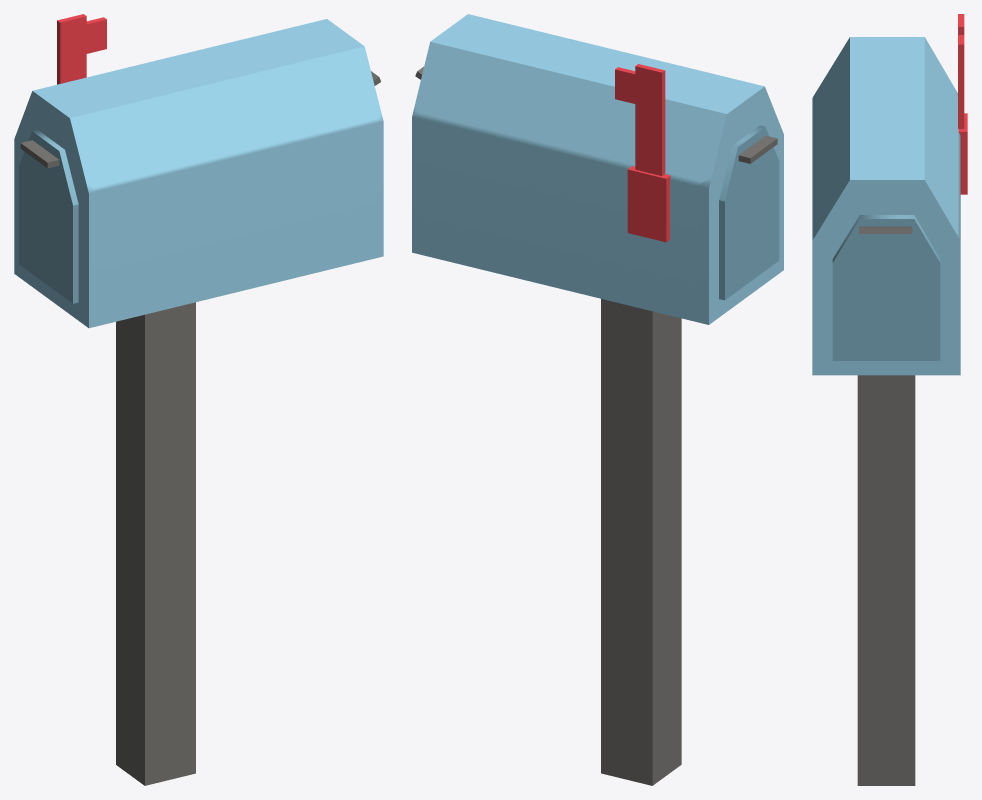
The model's file is mailbox.glb.
The picture shows the model from 3 angles, left to right: view 1: azimuth 30°, elevation 25°; view 2: azimuth 150°, elevation 25°; view 3: azimuth 270°, elevation 25°; orthographic projection.
Parts seen in each view (by area): view 1: boxBase, boxPole, backdoor, boxFlag; view 2: boxBase, boxPole, backdoor, boxFlag; view 3: boxBase, boxPole, frontDoor, boxFlag, frontdoorHandle.
Part boxes in pixels (<box>): boxBase: <box>14,19,383,328</box>; boxPole: <box>116,302,195,785</box>; backdoor: <box>19,129,78,303</box>; boxFlag: <box>57,14,106,84</box>; boxBase: <box>412,14,783,324</box>; boxPole: <box>601,299,681,785</box>; backdoor: <box>719,125,779,300</box>; boxFlag: <box>615,64,670,242</box>; boxBase: <box>812,37,960,375</box>; boxPole: <box>857,375,915,785</box>; frontDoor: <box>832,215,940,360</box>; boxFlag: <box>958,14,967,194</box>; frontdoorHandle: <box>859,226,912,233</box>.
Size of the model in its own units: 4.71 by 9.91 by 1.91.
